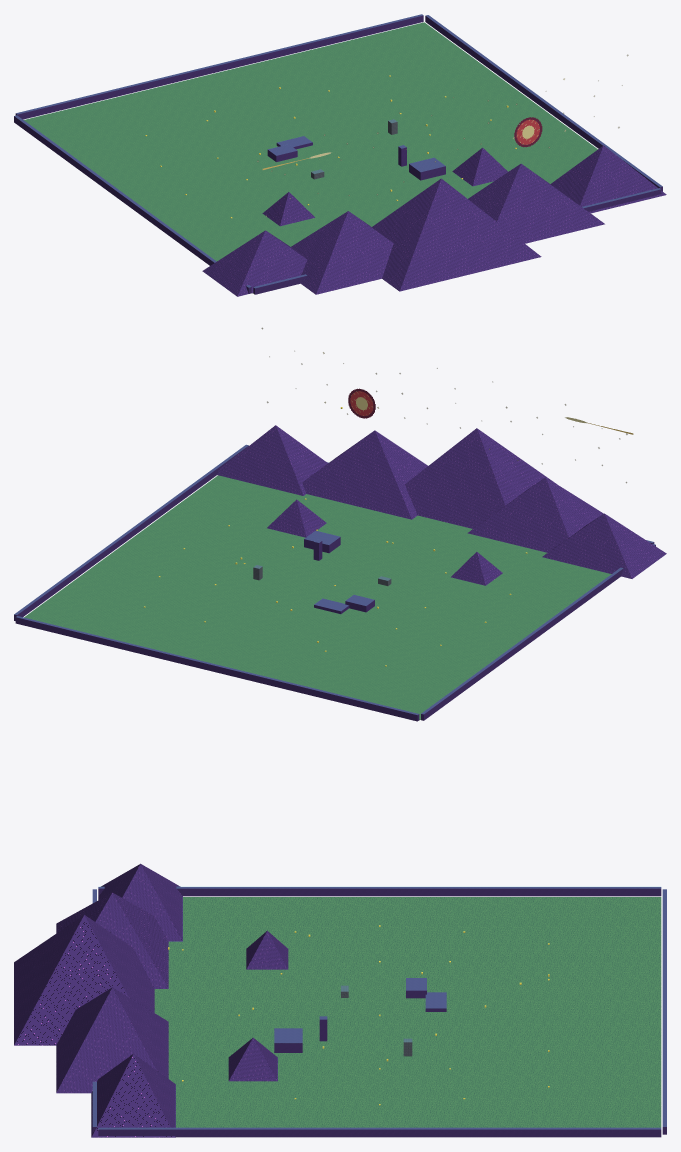
The model's file is alien-landscape.glb.
3 views of the same model, one above another, from view 1: azimuth 30°, elevation 25°; view 2: azimuth 150°, elevation 25°; view 3: azimuth 270°, elevation 25° (orthographic). The views are drawn at different scales.
Visible parts, largest first — view 1: ART_alien-landscape_alien_plain, WALKABLE_alien-landscape_alien_plain, ART_alien-landscape_ridge_center, ART_alien-landscape_ridge_east, ART_alien-landscape_ridge_west, ART_alien-landscape_ridge_far_west, ART_alien-landscape_ridge_far_east, ART_alien-landscape_south_map_edge, ART_alien-landscape_west_map_edge, ART_alien-landscape_east_map_edge, ART_alien-landscape_near_shard, ART_alien-landscape_north_map_edge (+6 smaller); view 2: ART_alien-landscape_alien_plain, WALKABLE_alien-landscape_alien_plain, ART_alien-landscape_ridge_center, ART_alien-landscape_ridge_east, ART_alien-landscape_ridge_west, ART_alien-landscape_ridge_far_west, ART_alien-landscape_ridge_far_east, ART_alien-landscape_south_map_edge, ART_alien-landscape_east_map_edge, ART_alien-landscape_west_map_edge, ART_alien-landscape_near_shard, ART_alien-landscape_left_shard (+4 smaller); view 3: ART_alien-landscape_alien_plain, WALKABLE_alien-landscape_alien_plain, ART_alien-landscape_ridge_center, ART_alien-landscape_ridge_east, ART_alien-landscape_east_map_edge, ART_alien-landscape_ridge_far_east, ART_alien-landscape_west_map_edge, ART_alien-landscape_ridge_west, ART_alien-landscape_ridge_far_west, ART_alien-landscape_near_shard, ART_alien-landscape_left_shard, ART_alien-landscape_south_map_edge (+4 smaller).
Part boxes in pixels (box(x1,y1,x2,y2)): ART_alien-landscape_alien_plain: box(24, 22, 597, 293); WALKABLE_alien-landscape_alien_plain: box(24, 22, 597, 260); ART_alien-landscape_ridge_center: box(372, 178, 541, 291); ART_alien-landscape_ridge_east: box(468, 163, 604, 243); ART_alien-landscape_ridge_west: box(290, 211, 393, 294); ART_alien-landscape_ridge_far_west: box(202, 230, 307, 296); ART_alien-landscape_ridge_far_east: box(550, 145, 666, 213); ART_alien-landscape_south_map_edge: box(15, 14, 423, 119); ART_alien-landscape_west_map_edge: box(14, 115, 251, 293); ART_alien-landscape_east_map_edge: box(425, 15, 662, 191); ART_alien-landscape_near_shard: box(452, 147, 507, 186); ART_alien-landscape_north_map_edge: box(253, 188, 661, 294); ART_alien-landscape_alien_plain: box(24, 475, 611, 720); WALKABLE_alien-landscape_alien_plain: box(25, 475, 610, 719); ART_alien-landscape_ridge_center: box(404, 428, 555, 528); ART_alien-landscape_ridge_east: box(302, 430, 427, 519); ART_alien-landscape_ridge_west: box(467, 477, 603, 552); ART_alien-landscape_ridge_far_west: box(542, 513, 666, 578); ART_alien-landscape_ridge_far_east: box(217, 425, 327, 495); ART_alien-landscape_south_map_edge: box(15, 616, 419, 721); ART_alien-landscape_east_map_edge: box(14, 444, 248, 620); ART_alien-landscape_west_map_edge: box(421, 544, 655, 720); ART_alien-landscape_near_shard: box(267, 499, 326, 537); ART_alien-landscape_left_shard: box(451, 552, 502, 585); ART_alien-landscape_alien_plain: box(154, 897, 661, 1127); WALKABLE_alien-landscape_alien_plain: box(155, 897, 660, 1127); ART_alien-landscape_ridge_center: box(14, 914, 154, 1045); ART_alien-landscape_ridge_east: box(56, 987, 168, 1093); ART_alien-landscape_east_map_edge: box(98, 1127, 661, 1137); ART_alien-landscape_ridge_far_east: box(91, 1053, 175, 1137); ART_alien-landscape_west_map_edge: box(98, 887, 661, 896); ART_alien-landscape_ridge_west: box(56, 892, 168, 988); ART_alien-landscape_ridge_far_west: box(98, 863, 182, 941); ART_alien-landscape_near_shard: box(228, 1037, 277, 1081); ART_alien-landscape_left_shard: box(246, 930, 288, 969); ART_alien-landscape_south_map_edge: box(662, 889, 666, 1134).
Size of what is drawn, in the model's own units: 84 by 36.5 by 92.8.
8 materials, 6 textured.
